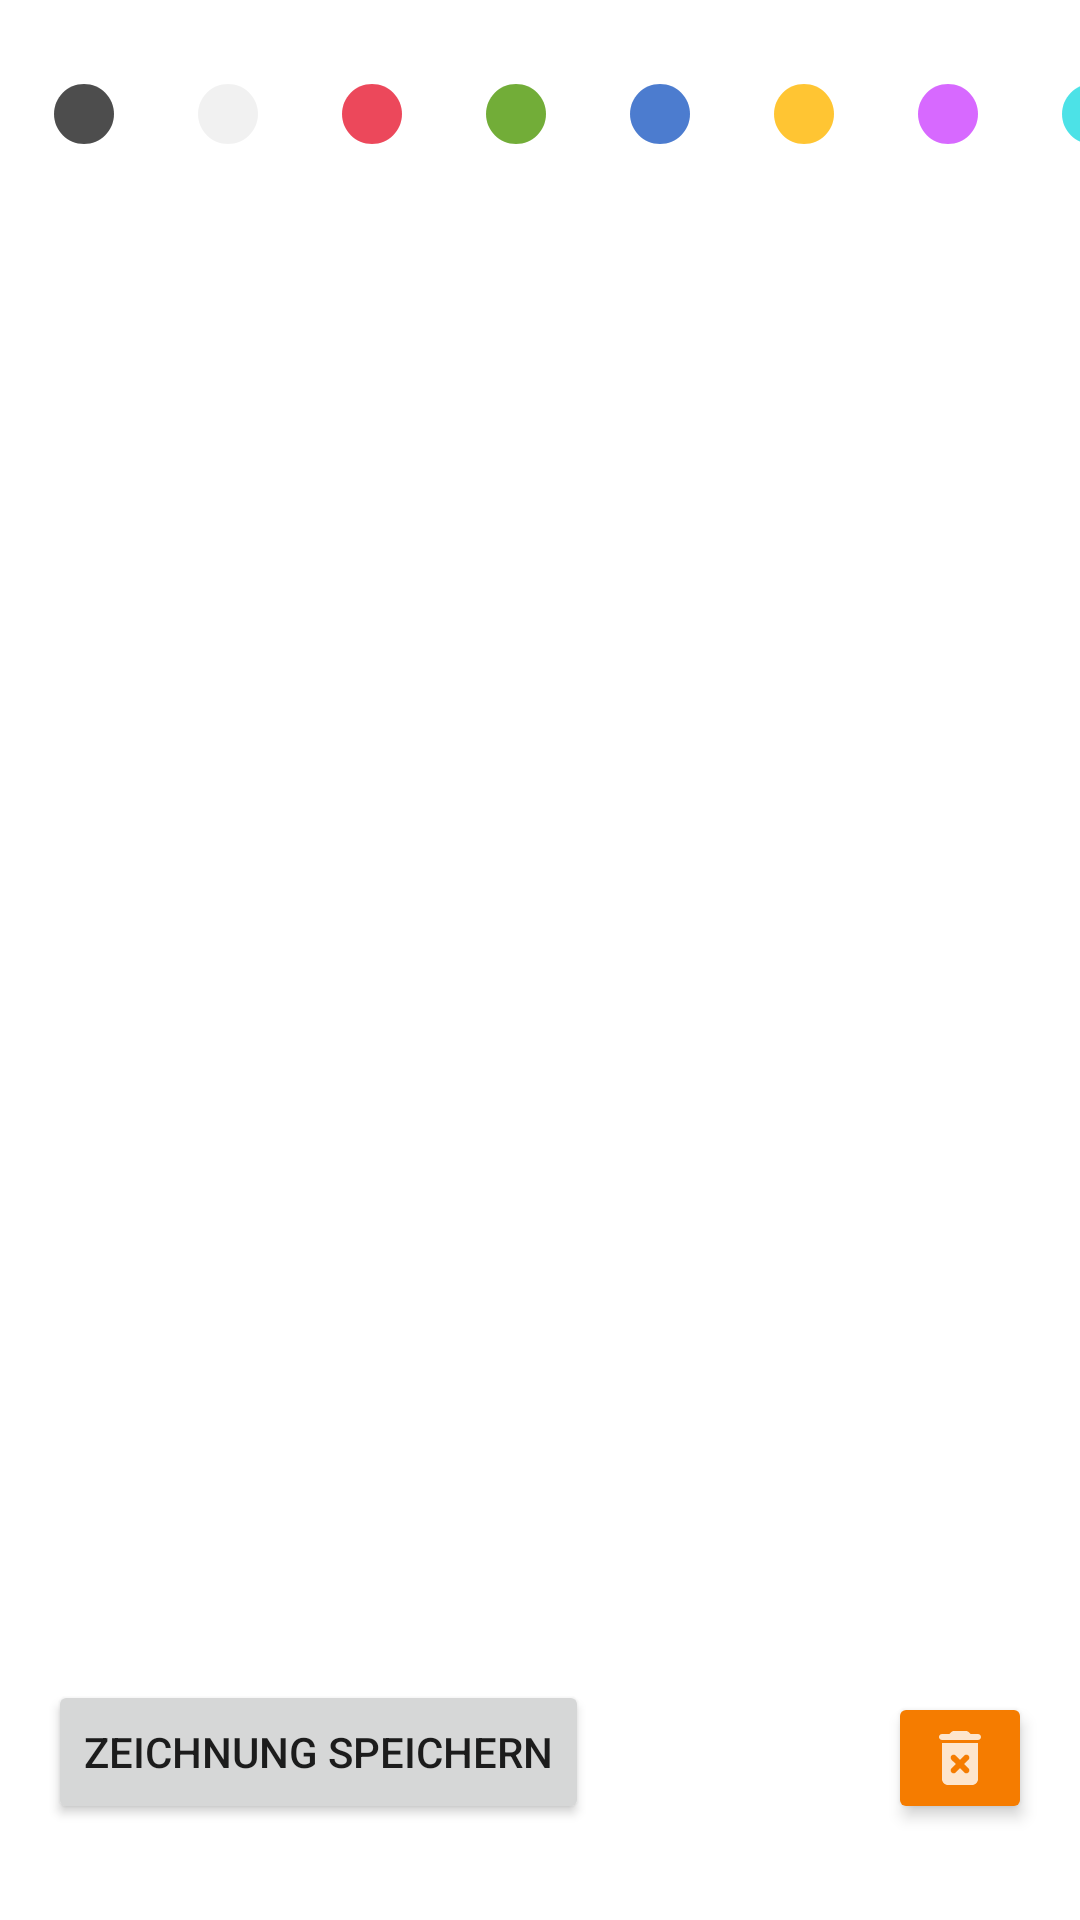

Where icons sit on this 1080×1920 app screen, as (x1, y1, x2, y2):
delete: (900, 1710, 1021, 1814)
